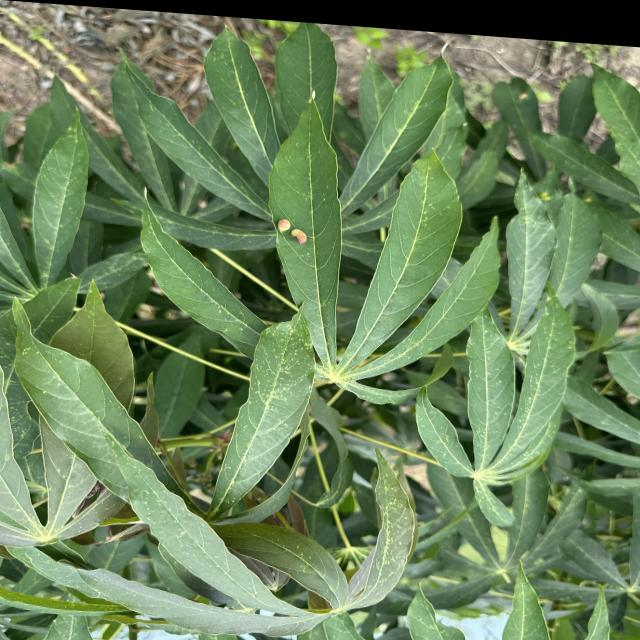Mosca: (271, 204, 320, 252), (294, 76, 327, 114), (534, 185, 562, 211)
